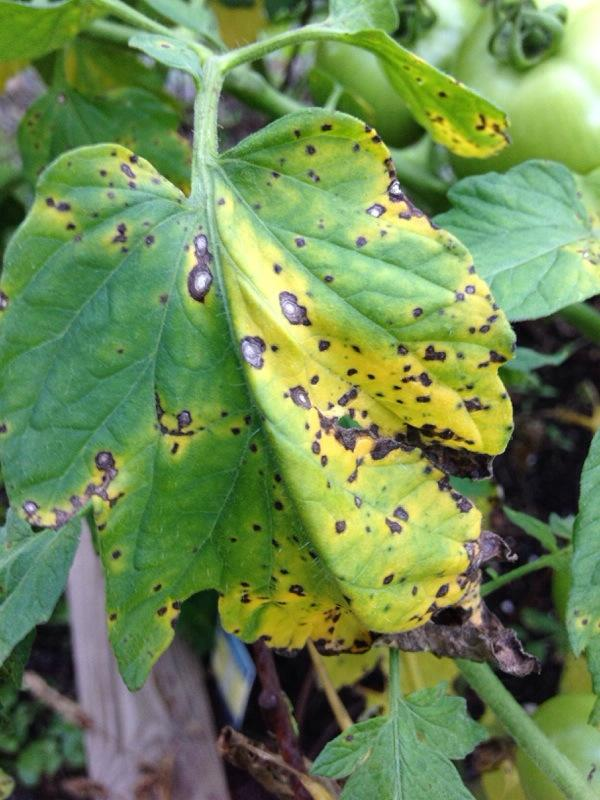Tomato Septoria leaf spot: (0, 107, 514, 678)
